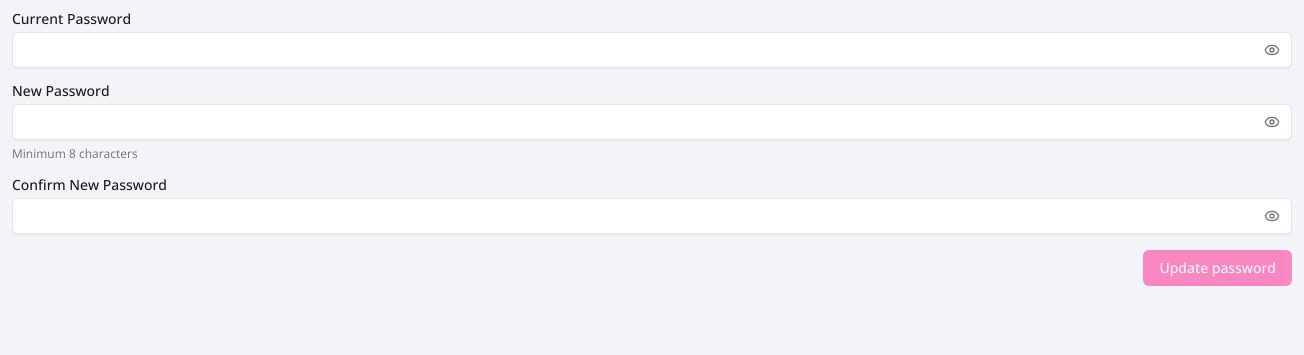
it: SecurityForm › shows error on wrong current password (401)
Type "wrongpass" into the password field labelled "Current Password". click: (652, 50)
box: [12,32,1292,68]
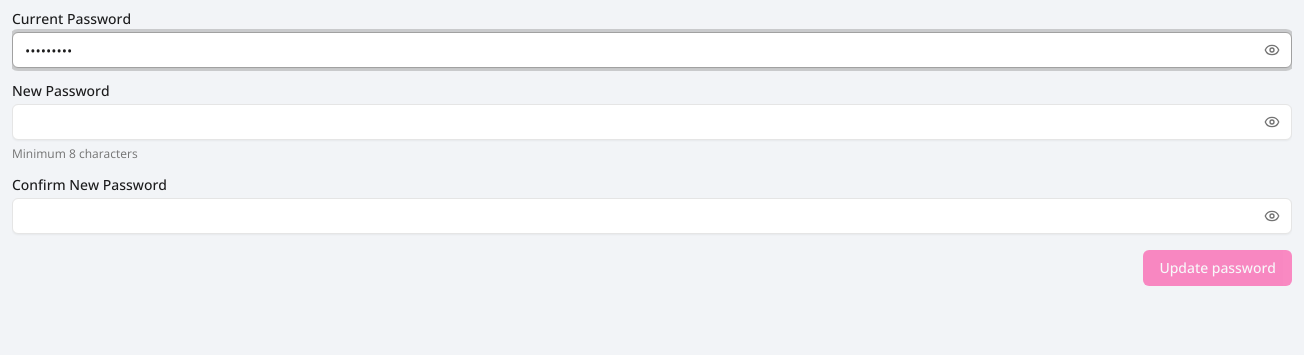
Type "newpass123" into the password field labelled "New Password". click: (652, 122)
box: [12,104,1292,140]
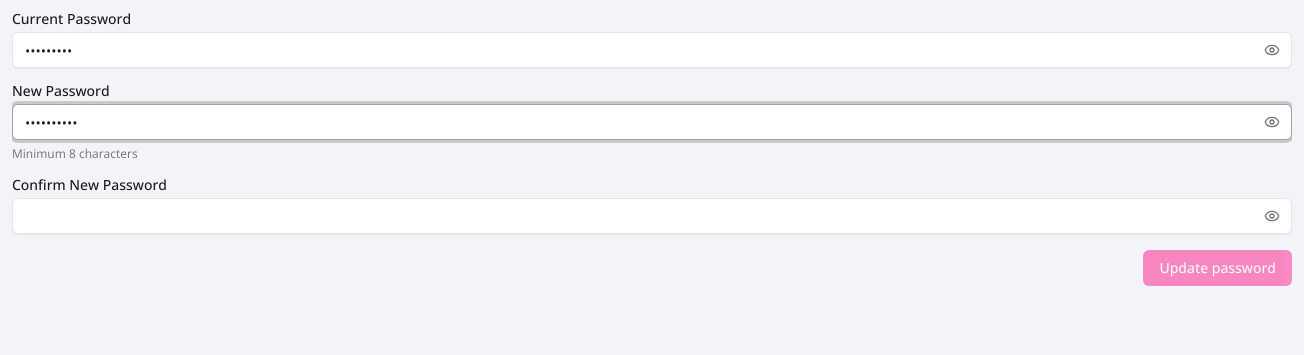
Type "newpass123" into the password field labelled "Confirm New Password". click: (652, 216)
box: [12,198,1292,234]
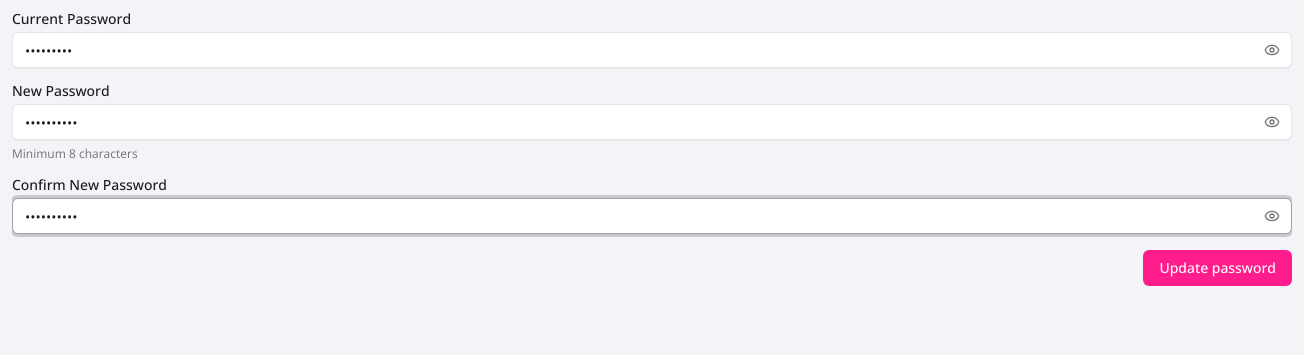
Click the button "Update password". click: click(1218, 268)
box: [1143,250,1292,286]
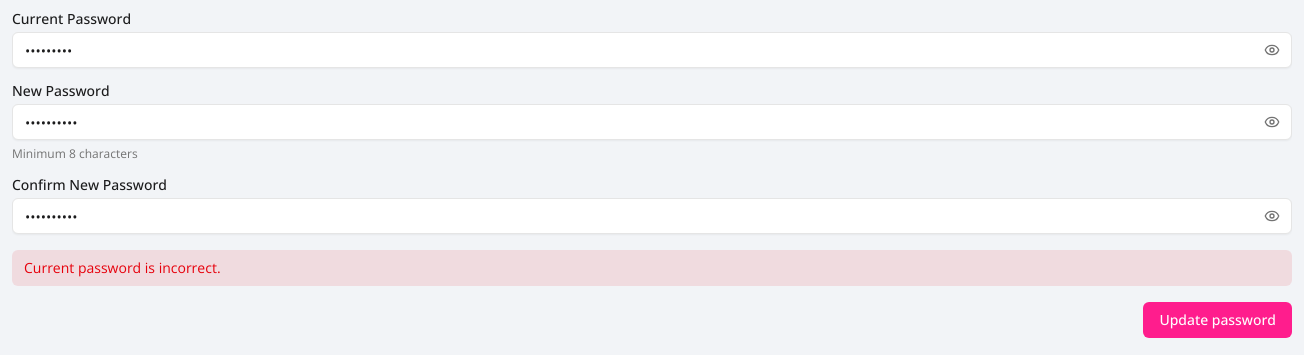
Expected: the message shows "Current password is incorrect", [24,258,221,277]
